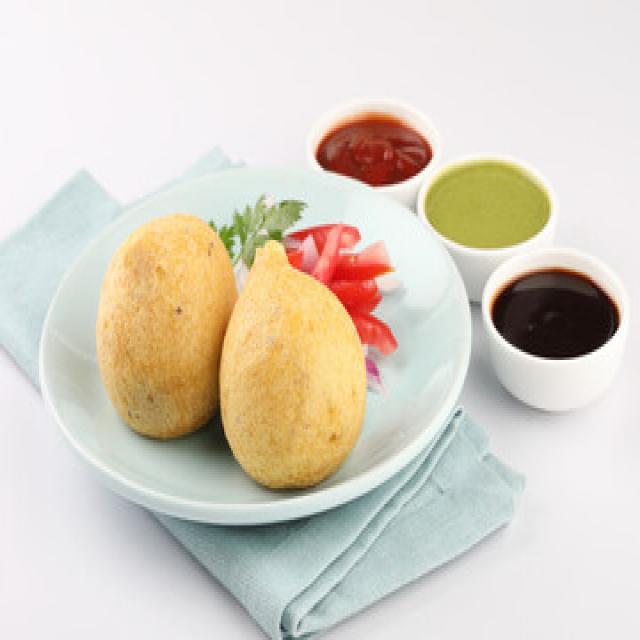BONDA: (100, 213, 364, 488)
GREEN CHUTNEY: (427, 160, 549, 245)
RED CHUTNEY: (492, 272, 617, 357)
SAUCE: (316, 117, 430, 184)
